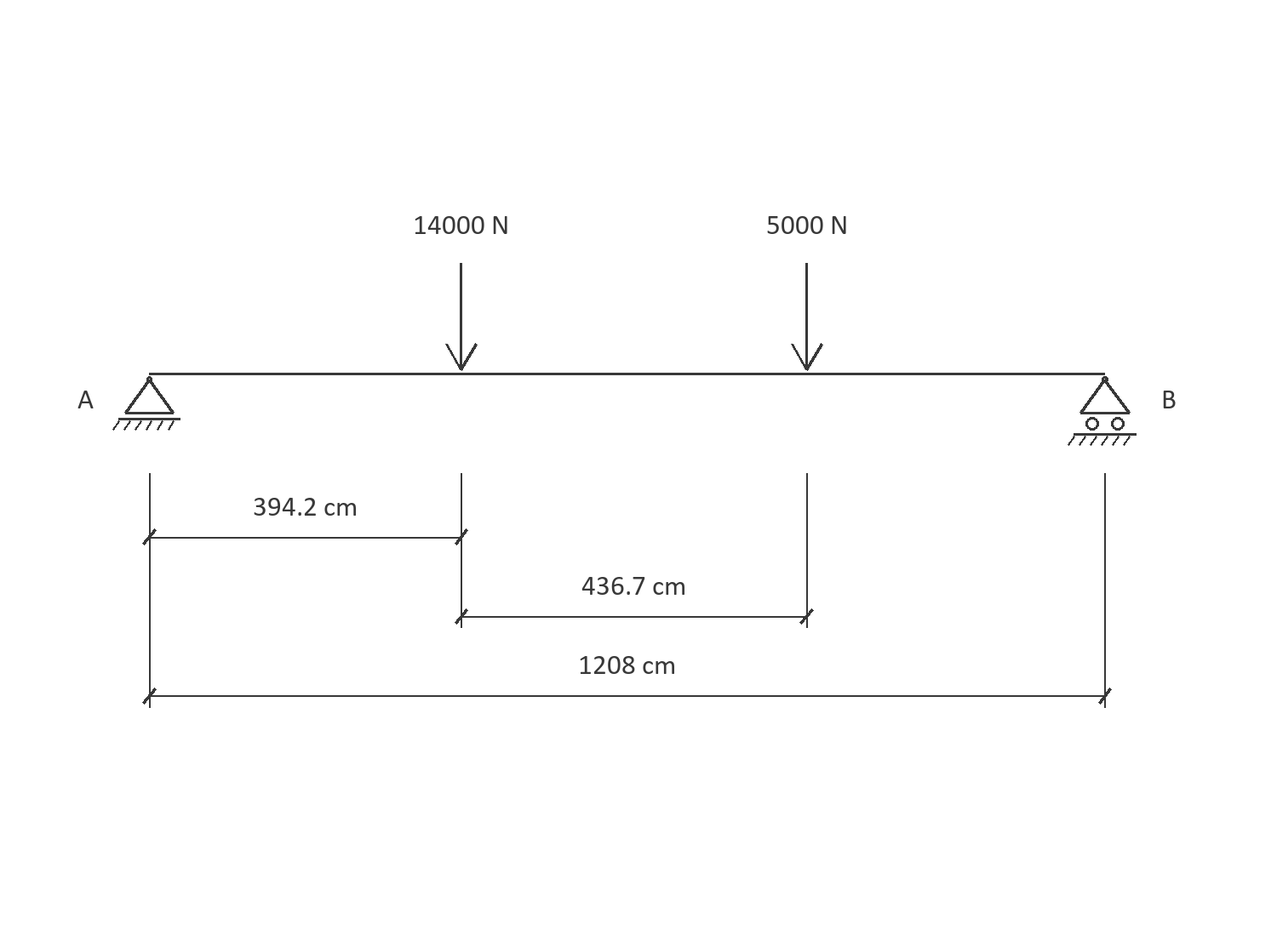pin_support: (112, 376, 180, 431)
point_load: (445, 263, 478, 371), (791, 263, 823, 371)
roller_support: (1068, 376, 1137, 446)
